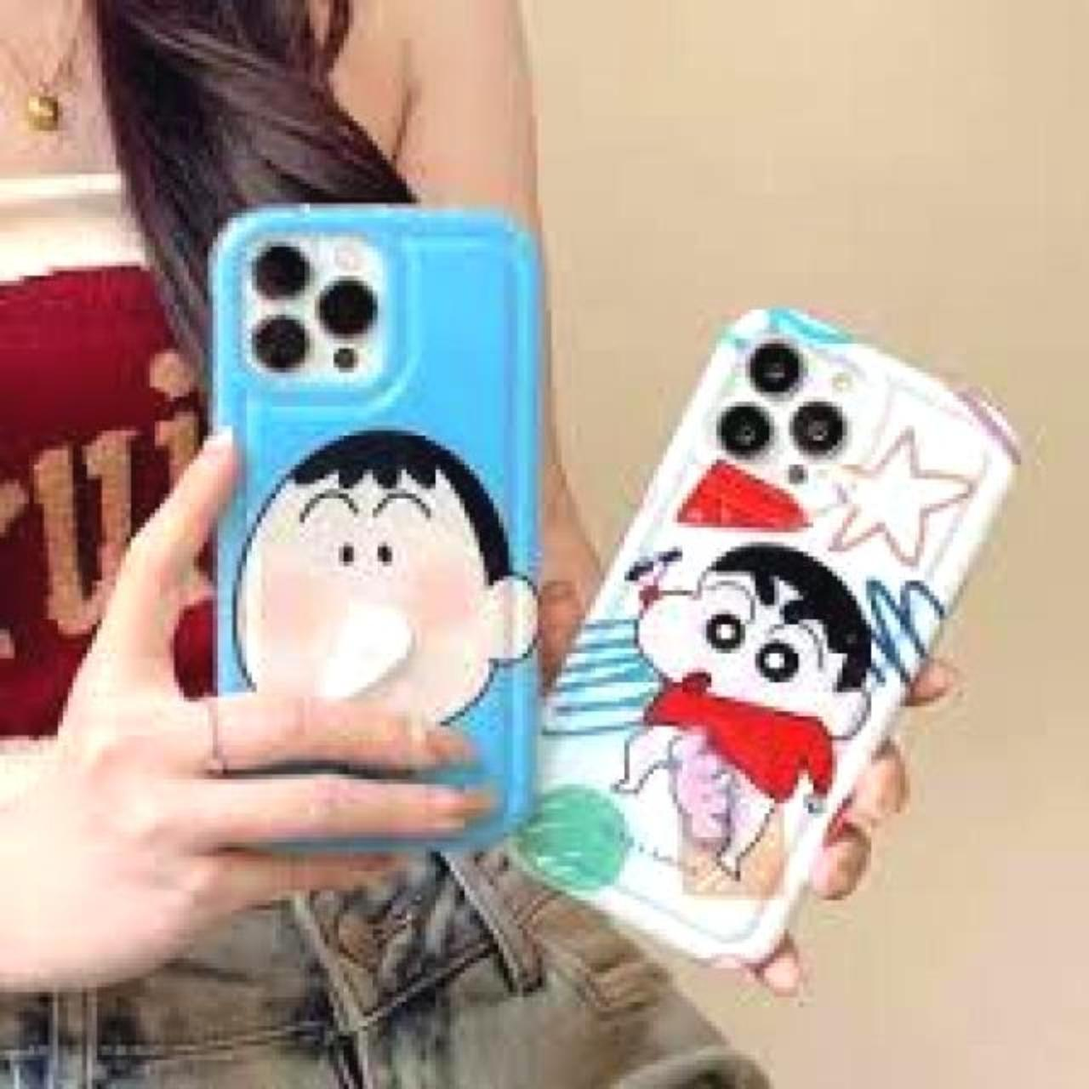phone: (505, 309, 1025, 979), (193, 195, 532, 862)
